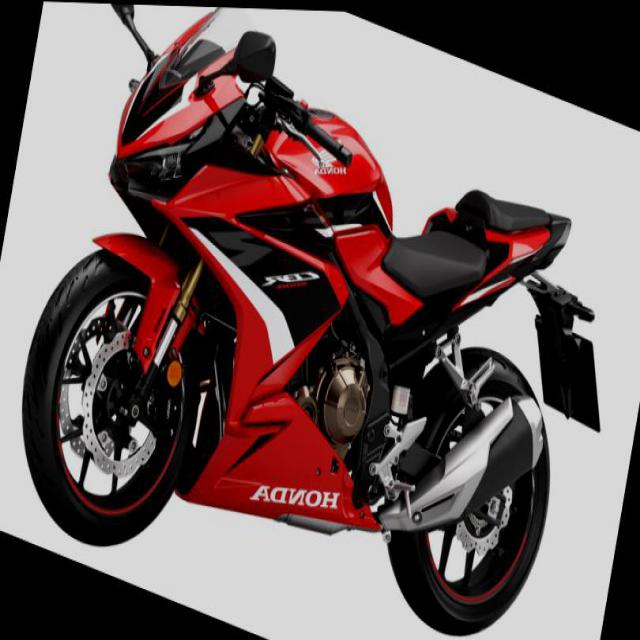CBR500R: (0, 0, 612, 639)
